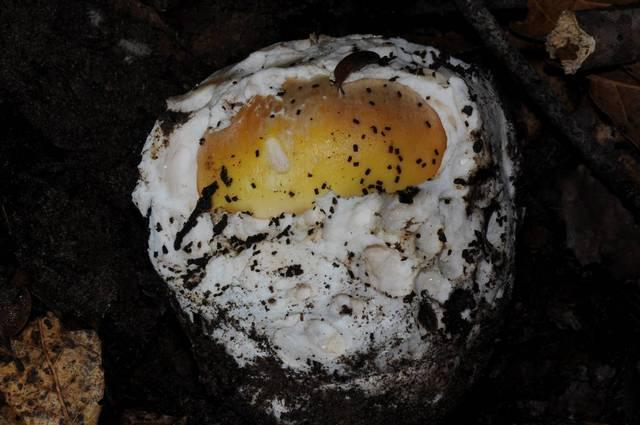edible_mushroom: (130, 31, 521, 423)
